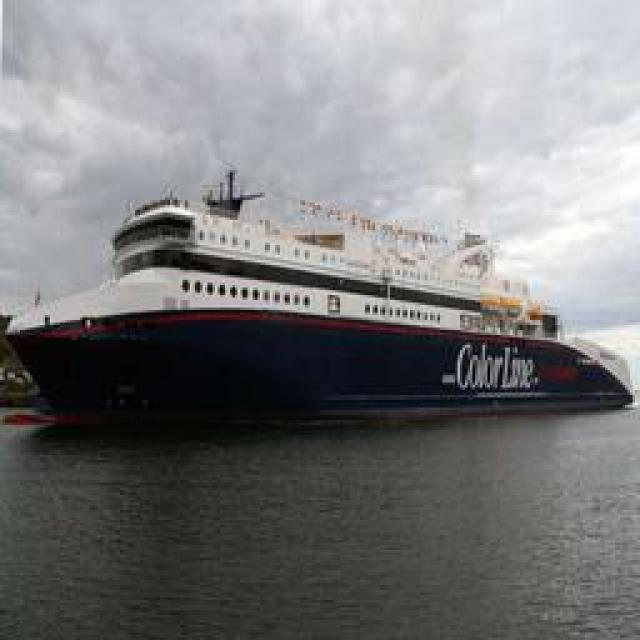ship2: (4, 167, 634, 429)
